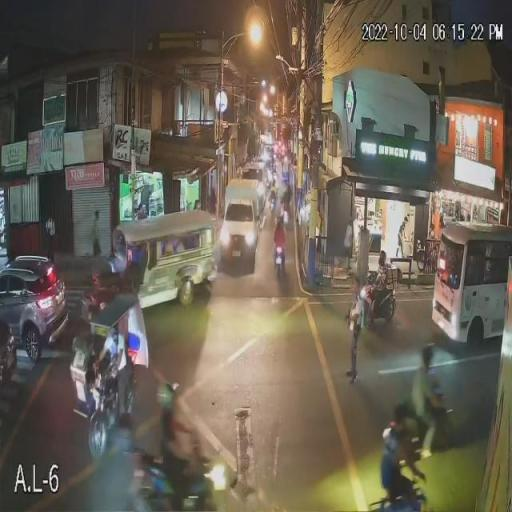helmet: (155, 382, 176, 408), (420, 342, 437, 366), (377, 251, 388, 267)
motorcycle: (124, 445, 239, 511), (84, 368, 132, 461), (350, 270, 398, 336), (390, 474, 429, 512), (272, 248, 287, 278)
rider: (154, 380, 216, 487), (380, 401, 426, 510), (96, 330, 130, 416), (411, 365, 440, 458), (366, 250, 392, 312), (271, 220, 287, 261)
